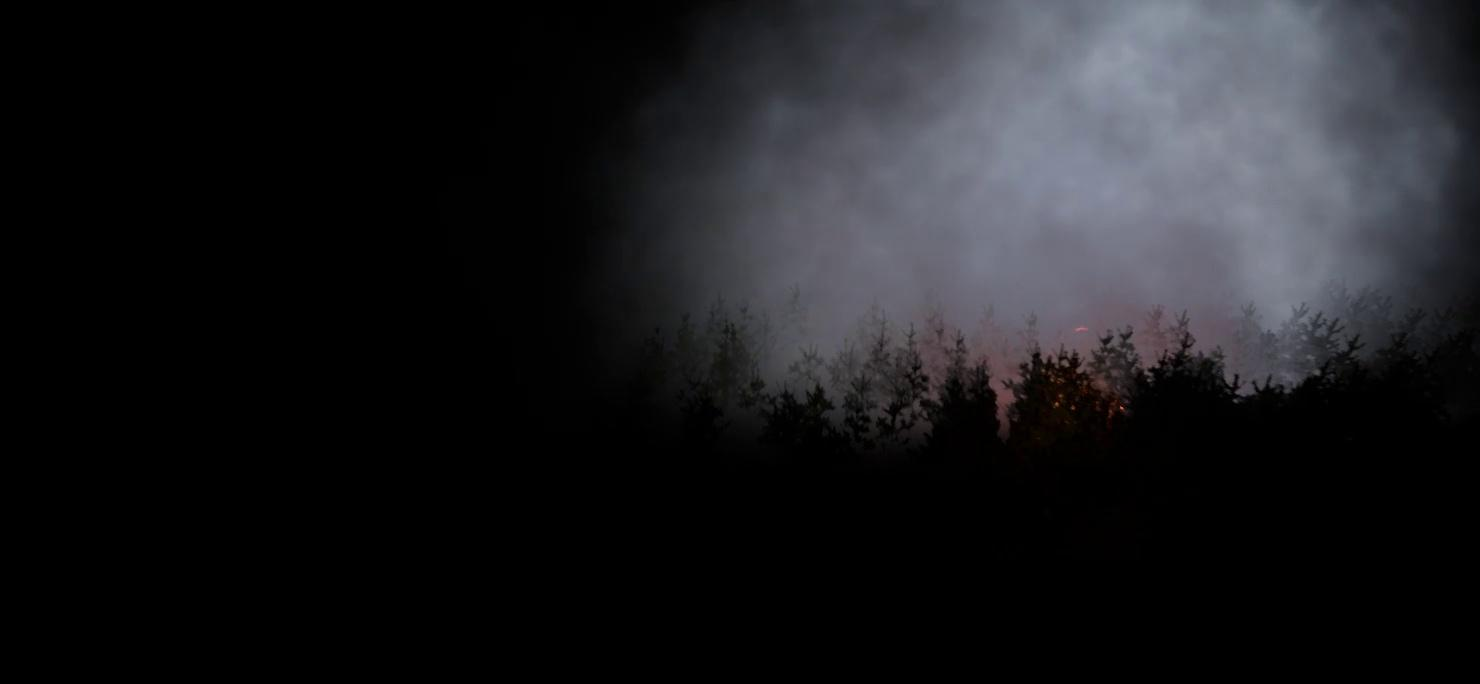smoke: (619, 0, 1479, 432)
